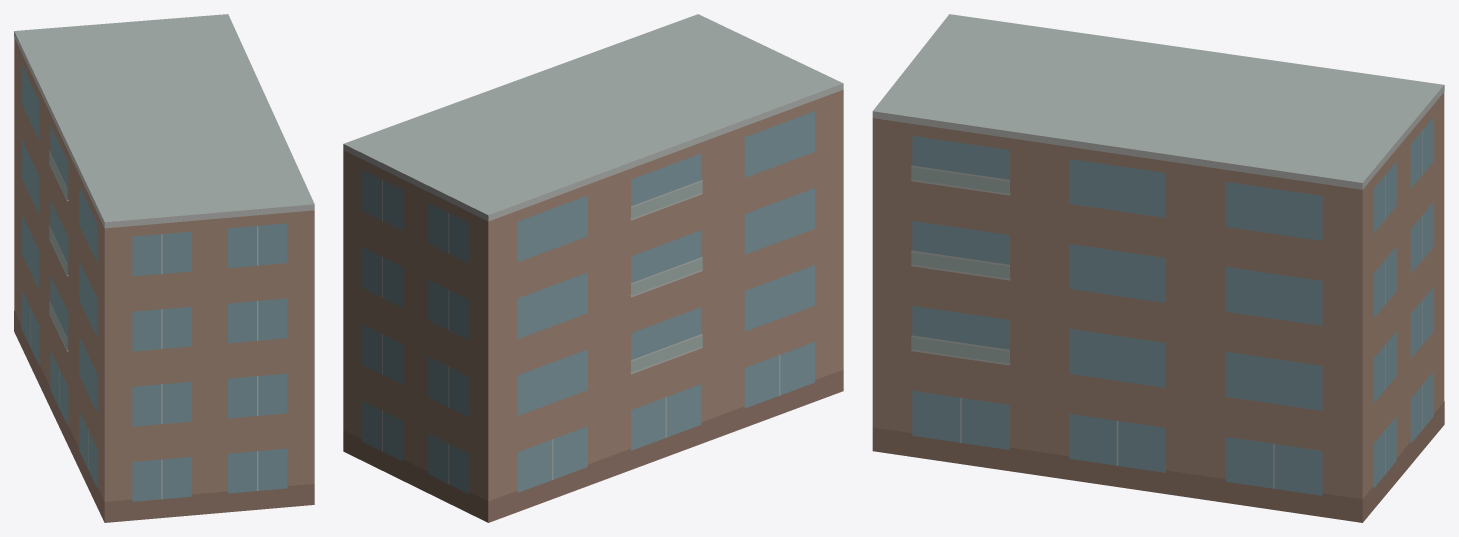
The model's file is survey-upis-32629568.glb.
3 views of the same model, side by side, from view 1: azimuth 30°, elevation 25°; view 2: azimuth 150°, elevation 25°; view 3: azimuth 270°, elevation 25° (orthographic). The views are drawn at different scales.
Parts seen in each view (by area): view 1: survey-upis-32629568.tmp; view 2: survey-upis-32629568.tmp; view 3: survey-upis-32629568.tmp.
Boxes of the visible parts, x1,y1,x2,y2 form: survey-upis-32629568.tmp: (14,14,314,522); survey-upis-32629568.tmp: (343,14,843,522); survey-upis-32629568.tmp: (872,14,1444,522).
Bounding box in the file's own units: 12.97 × 12.15 × 18.54.
